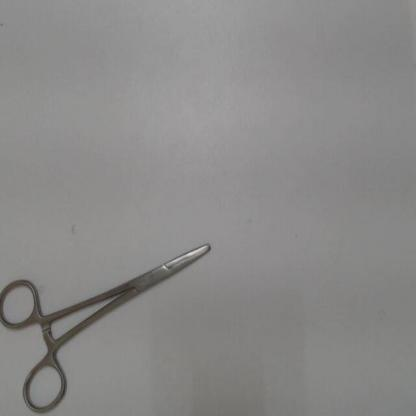Mayo Needle Holder: (1, 226, 227, 414)
